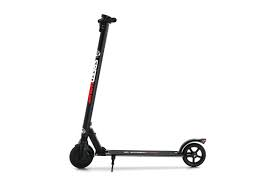kick_board: (70, 14, 207, 168)
kick_body: (109, 151, 178, 156)
kick_handler: (98, 14, 117, 31)
kick_neck: (82, 32, 107, 130)
kick_wheel: (69, 143, 94, 169), (183, 143, 205, 167)
